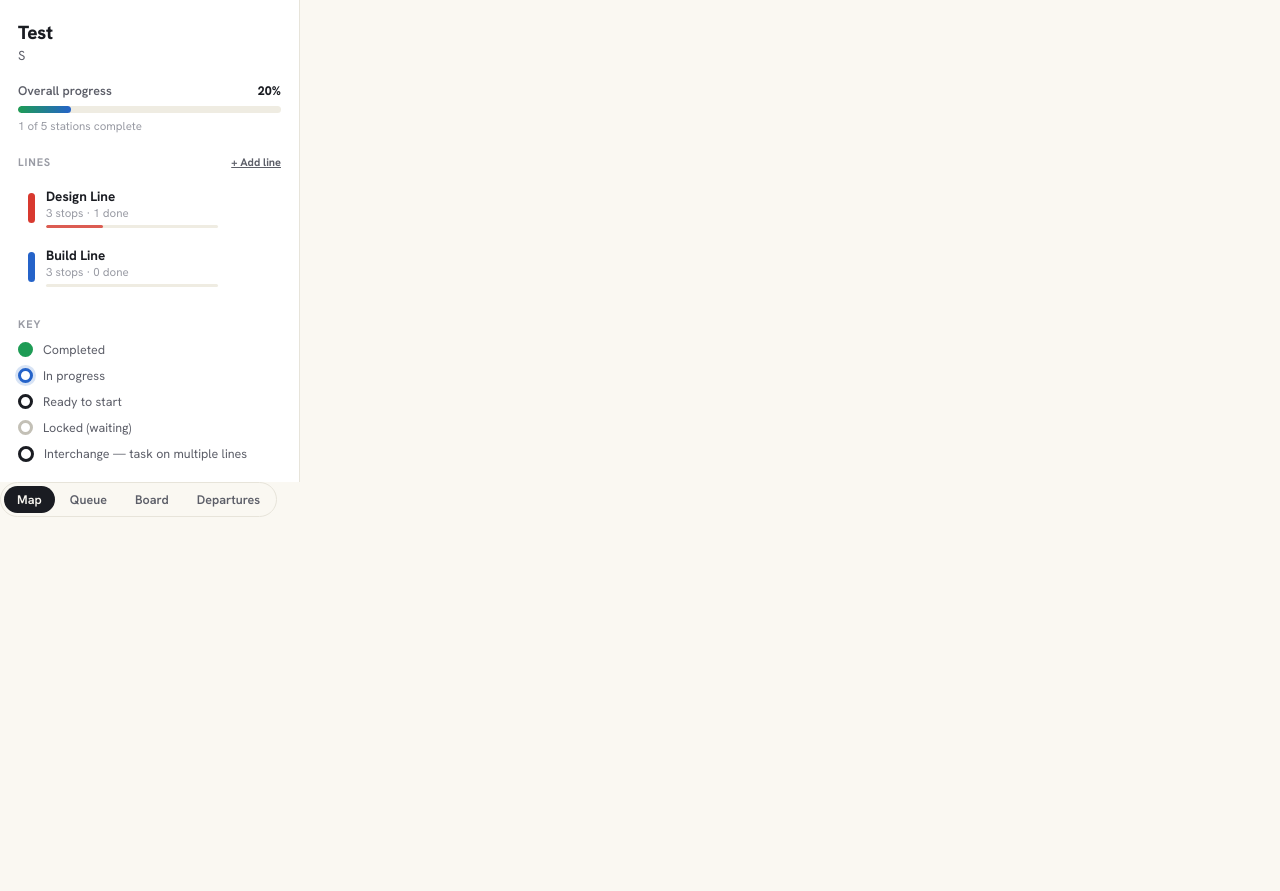
Test: line filtering on the boards › shows no filter bar until a line is selected, and clears back to everything
The width and height of the screenshot is (1280, 891).
Expected: the element with class "lines-list" is shown, [18,179,228,295]
Click the button "Queue".
click(88, 500)  # box [57,486,120,513]
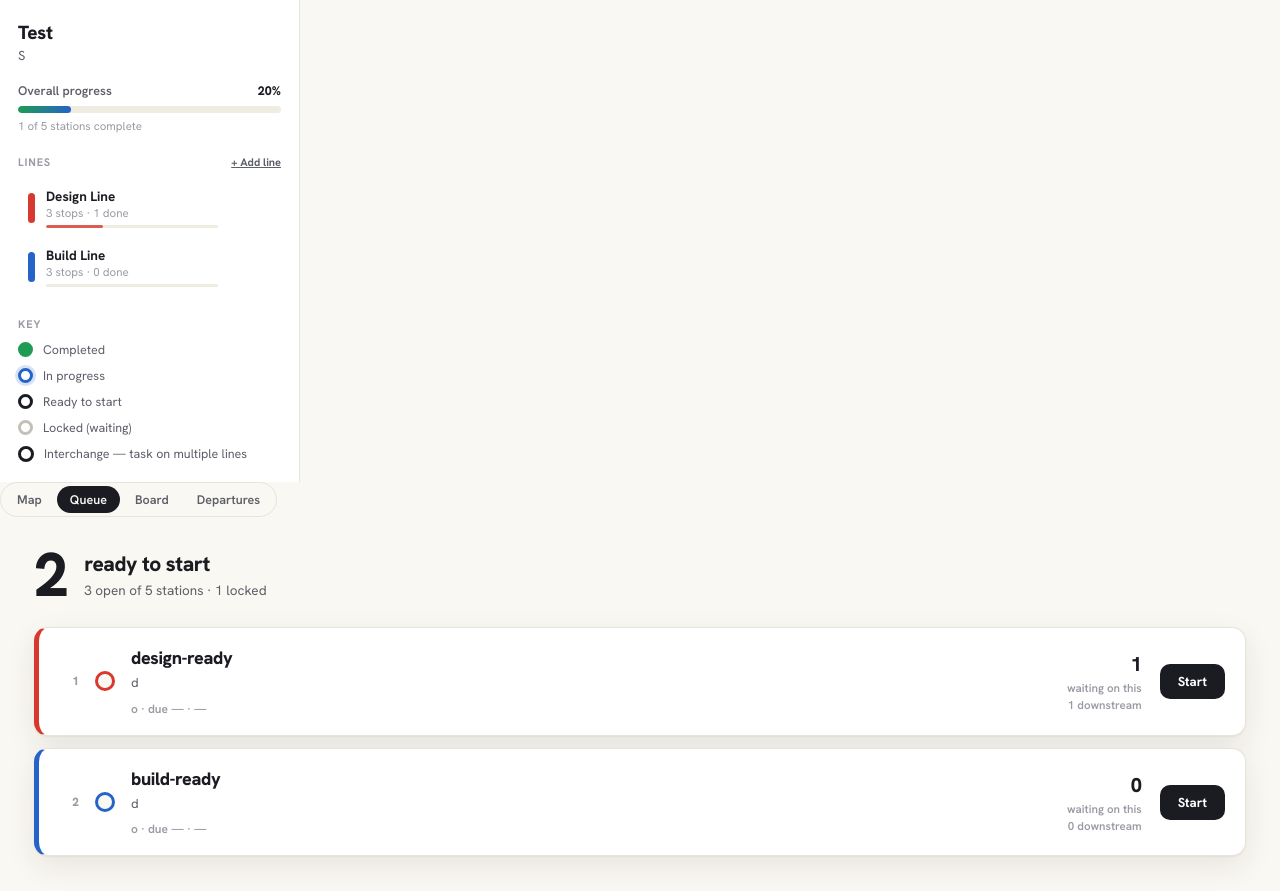
Click the button with class "line-row-btn" showing "Design Line 3 stops · 1 done".
click(123, 208)  # box [18,179,228,236]
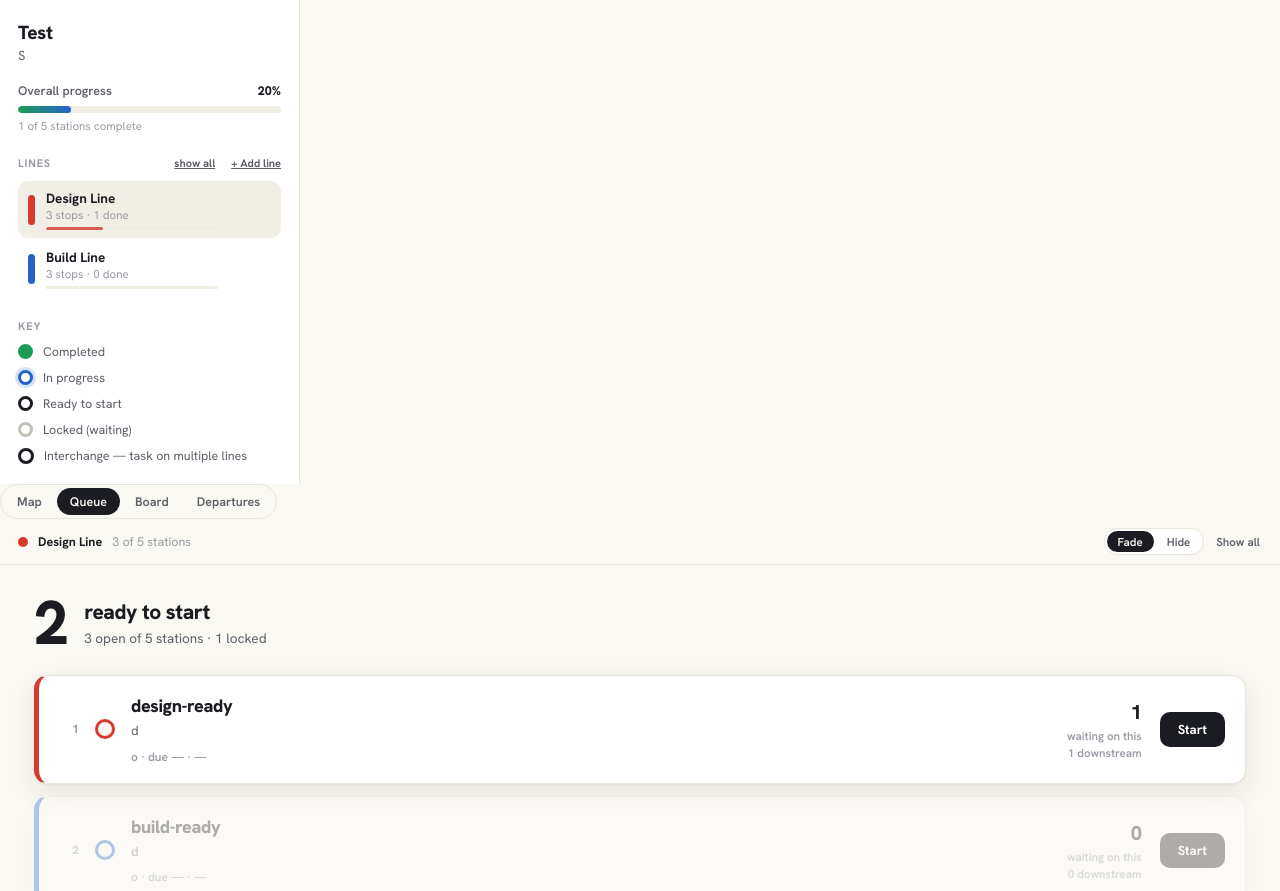
Now the element with class "filter-bar" shows "3 of 5 stations", box [0,519,1279,565]
Click the button with class "filter-clear".
click(1238, 542)  # box [1214,531,1262,552]
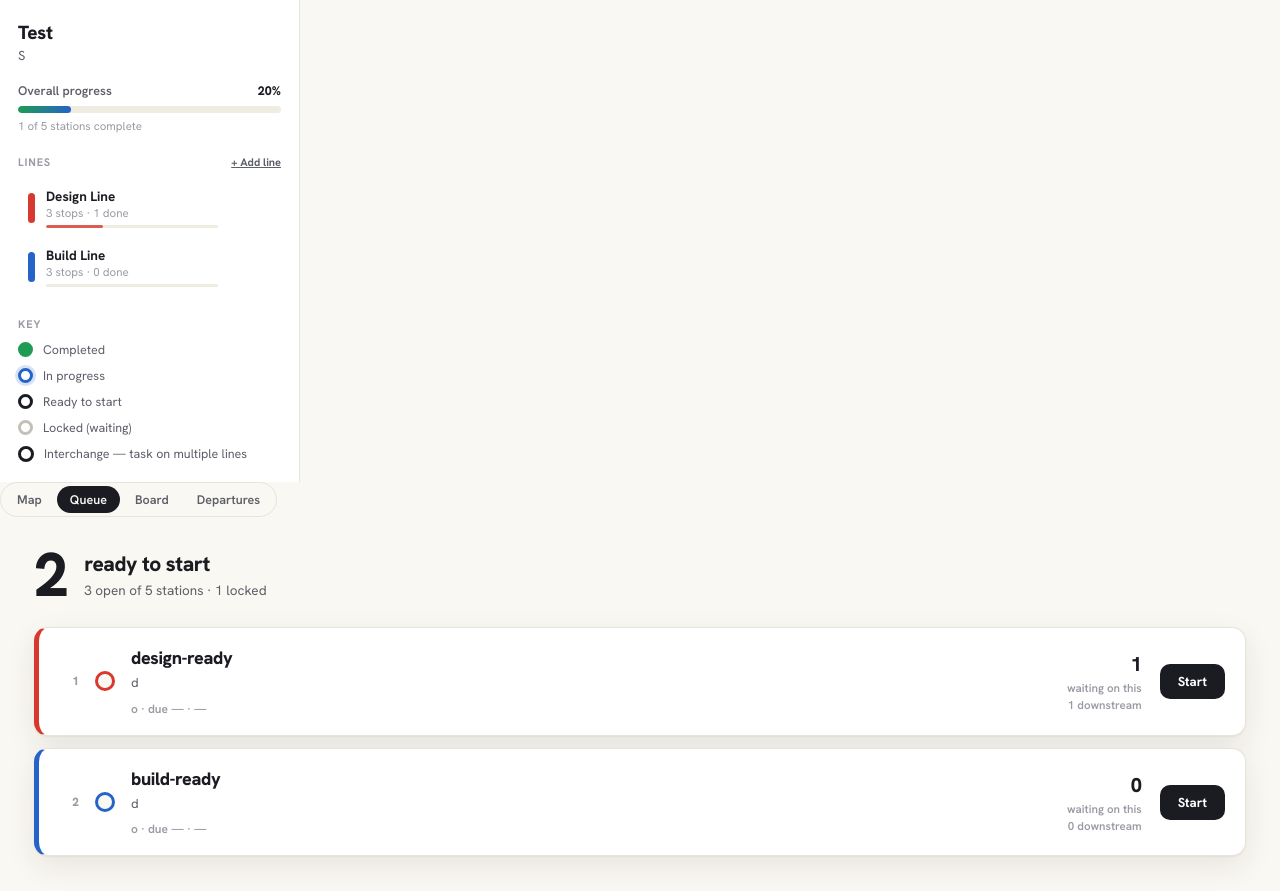
Now the element with class "filter-bar" is gone
